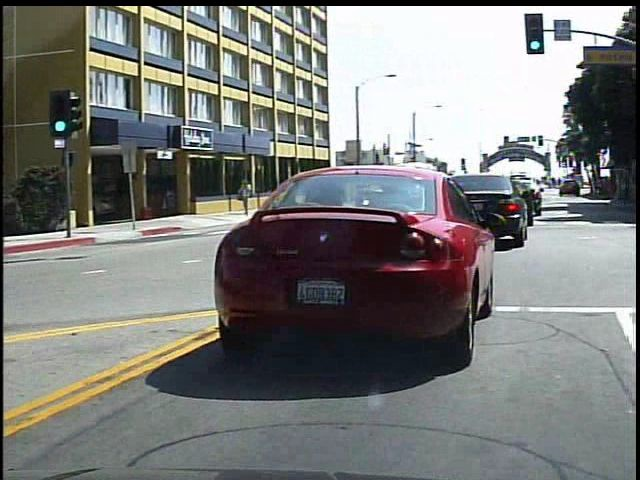person: (242, 174, 260, 214)
